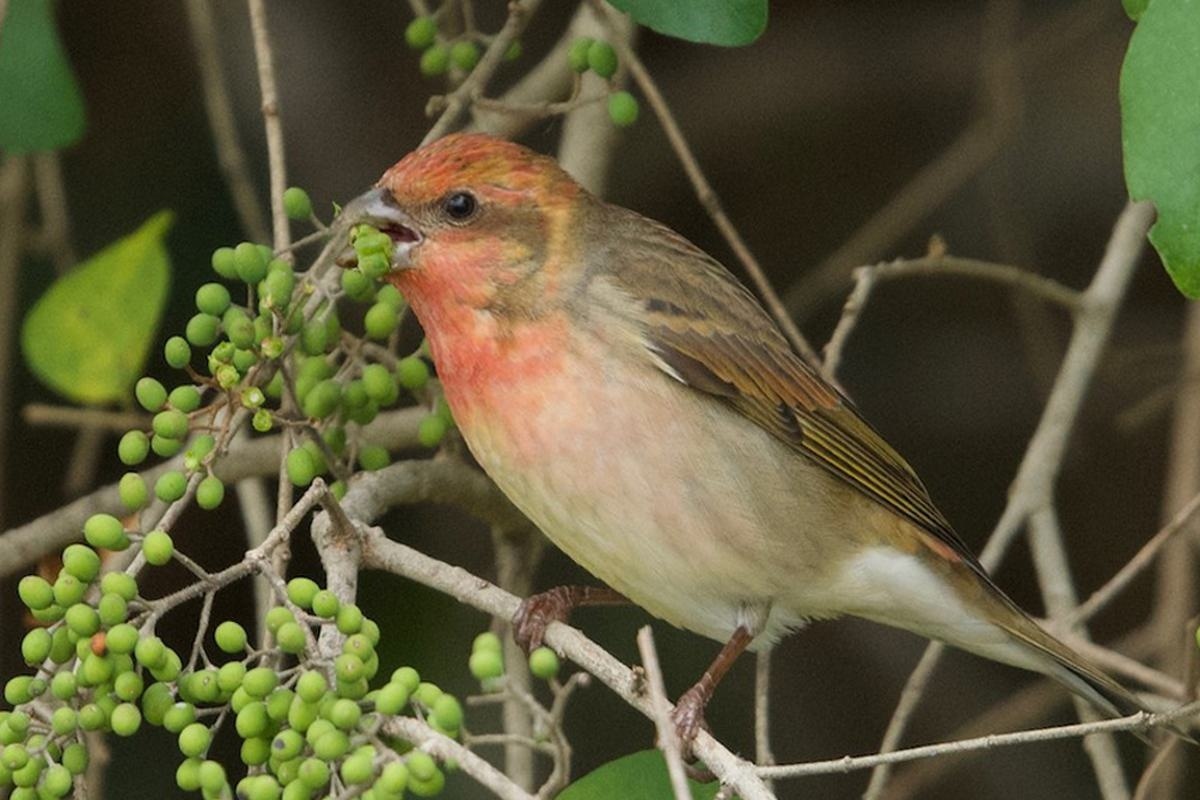rosefinch: (354, 98, 1111, 734)
